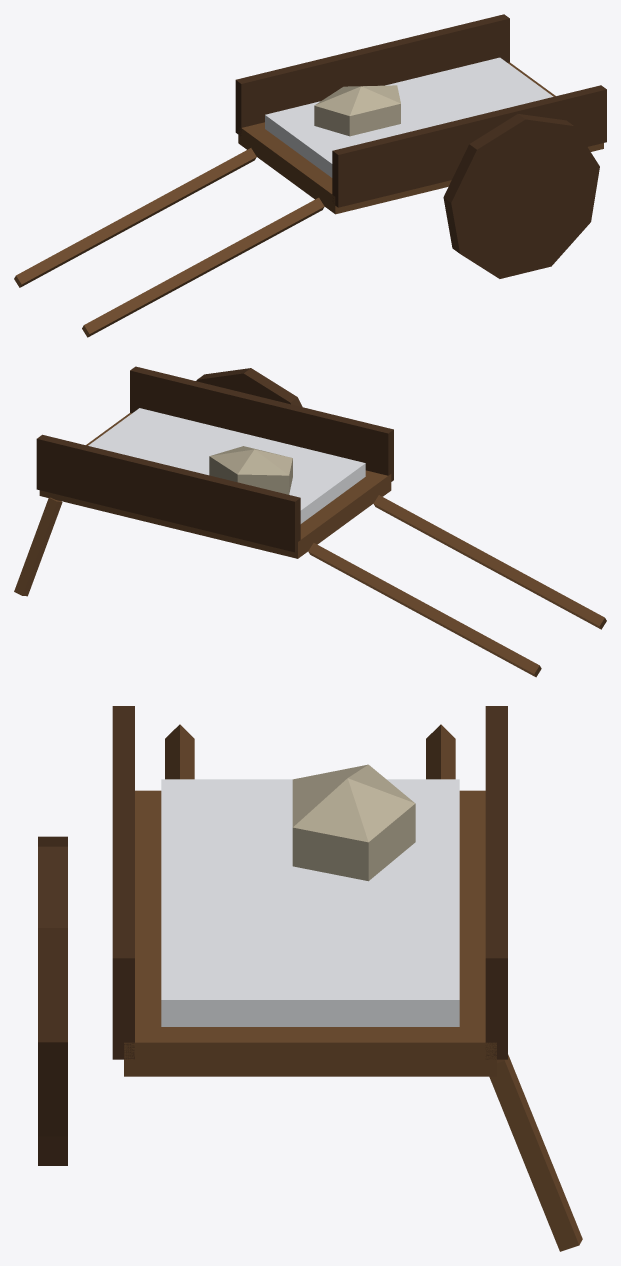
Rendered from a3g_abandoned_cart.glb.
3 views of the same model, one above another, from view 1: azimuth 30°, elevation 25°; view 2: azimuth 150°, elevation 25°; view 3: azimuth 270°, elevation 25° (orthographic). The views are drawn at different scales.
Visible parts, largest first — view 1: a3g_abandoned_cart; view 2: a3g_abandoned_cart; view 3: a3g_abandoned_cart.
Part boxes in pixels (bbox=[...]): a3g_abandoned_cart: bbox=[14, 14, 606, 337]; a3g_abandoned_cart: bbox=[14, 366, 606, 677]; a3g_abandoned_cart: bbox=[38, 706, 582, 1251].
Bounding box in the file's own units: 3.04 × 0.9146 × 1.46.
